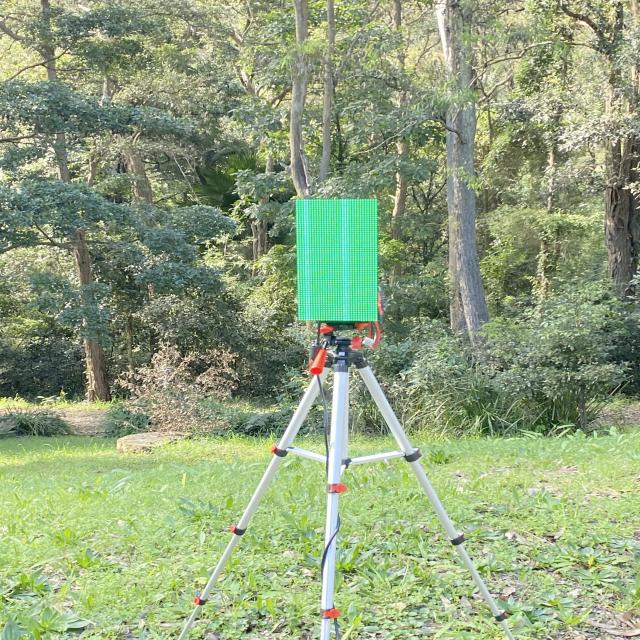matrix: (287, 194, 386, 323)
